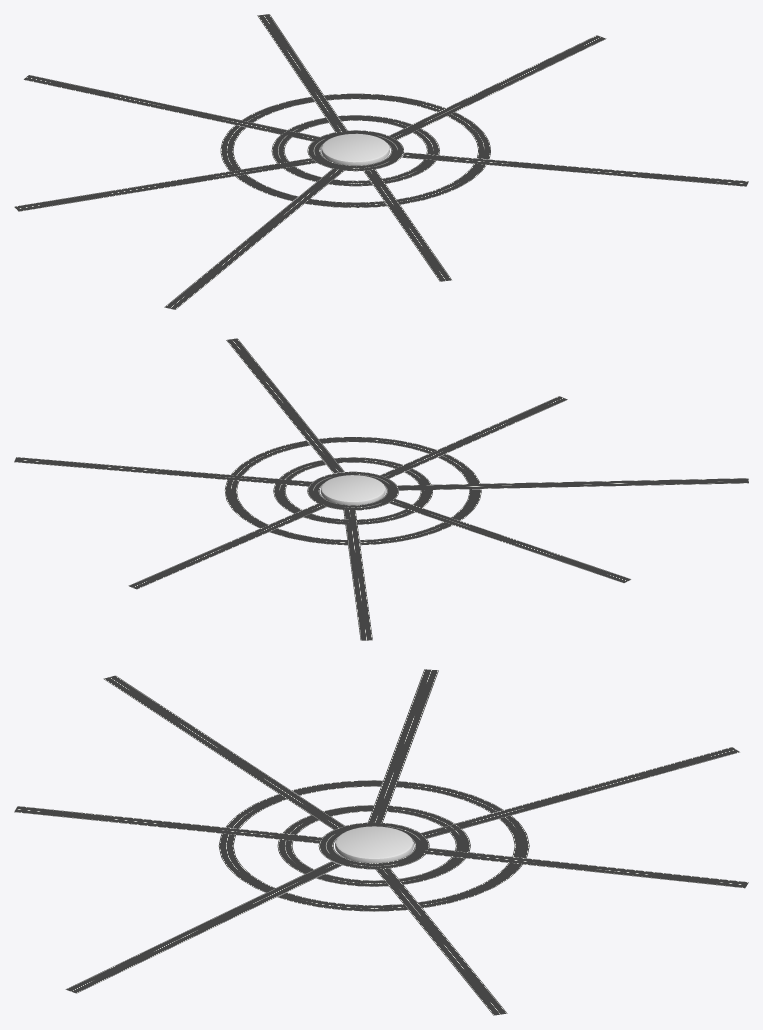
File: Road.fbx
3 renders of one model, top to bottom at view 1: azimuth 30°, elevation 25°; view 2: azimuth 150°, elevation 25°; view 3: azimuth 270°, elevation 25°, orthographic. The views are drawn at different scales.
Parts seen in each view (by area): view 1: Boole, Plane_2, Plane_1, Cylinder_3; view 2: Boole, Plane_2, Plane_1, Cylinder_3; view 3: Boole, Plane_2, Plane_1, Cylinder_3.
Part boxes in pixels (<box>): Boole: <box>220,93,490,207</box>; Plane_2: <box>257,14,748,281</box>; Plane_1: <box>14,75,344,309</box>; Cylinder_3: <box>321,133,389,165</box>; Boole: <box>224,437,481,545</box>; Plane_2: <box>14,338,567,589</box>; Plane_1: <box>343,478,748,640</box>; Cylinder_3: <box>320,475,385,505</box>; Boole: <box>218,780,529,911</box>; Plane_2: <box>14,806,748,1015</box>; Plane_1: <box>103,669,739,838</box>; Cylinder_3: <box>335,826,413,862</box>.
Bounding box in the file's own units: 1009 × 6.31 × 905.
